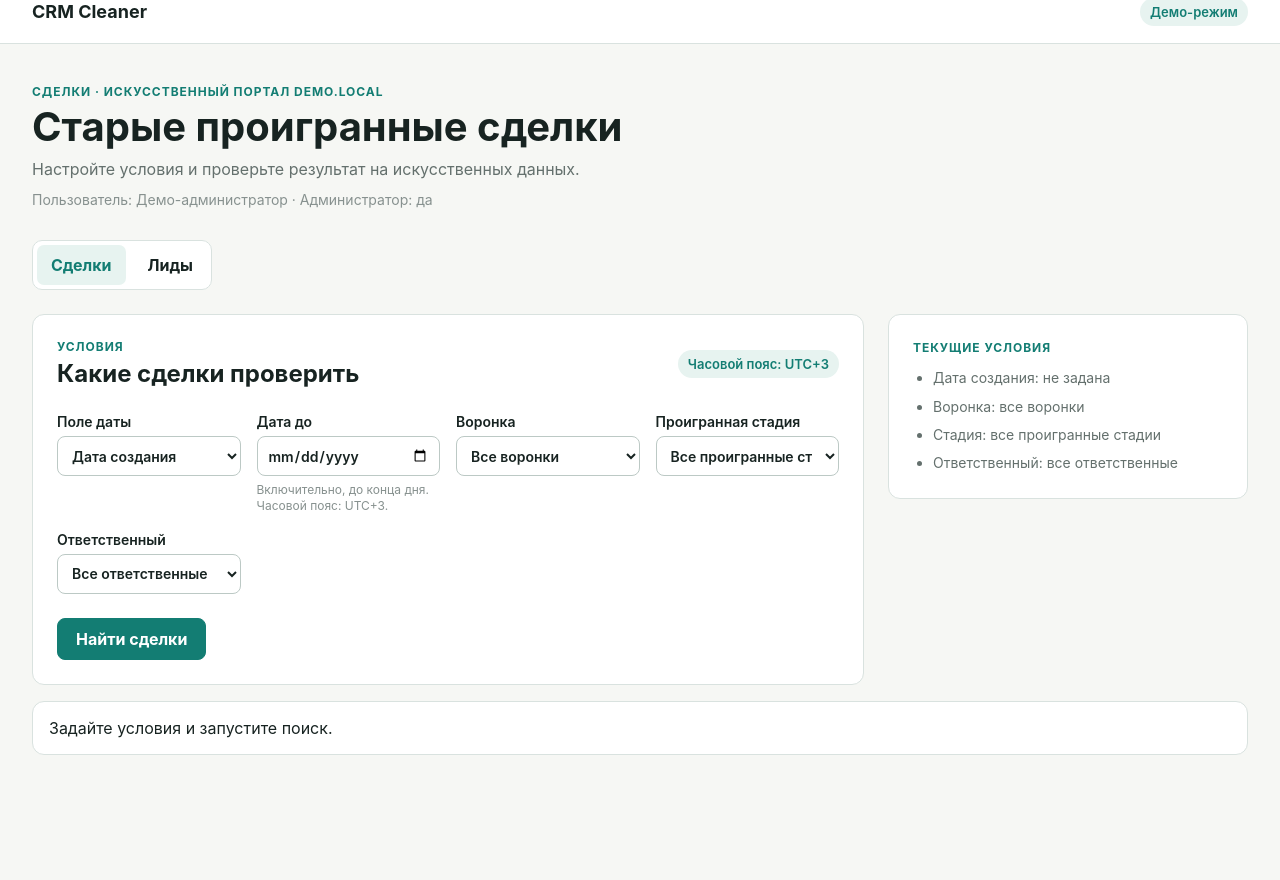
App › resets preview pagination for a new search revision
This screenshot has width=1280, height=880.
Type "2026-01-31" into the date field labelled "Дата до" at (348, 456), box [256,436,440,476]
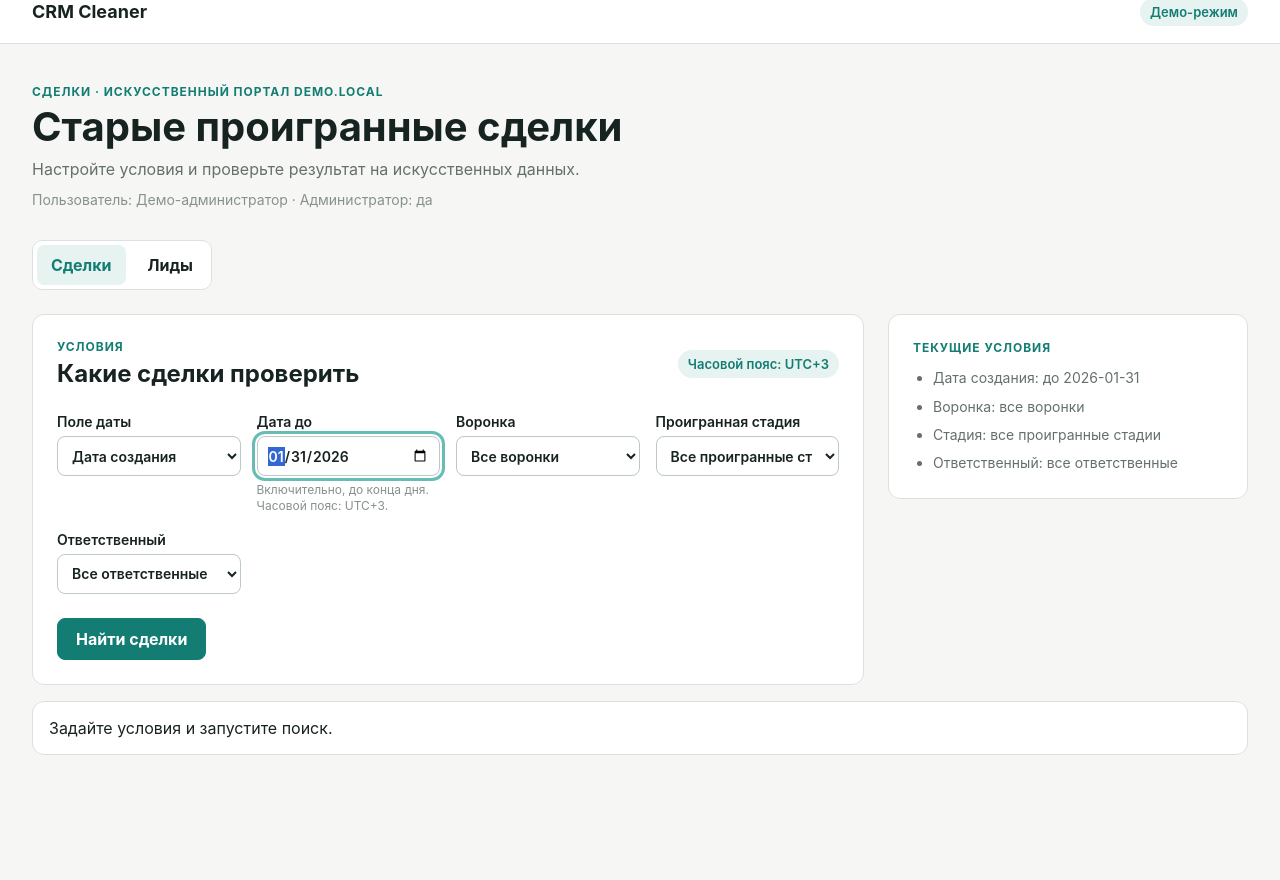
Click the button "Найти сделки" at (132, 639), box [57,618,206,660]
(page scrolled)
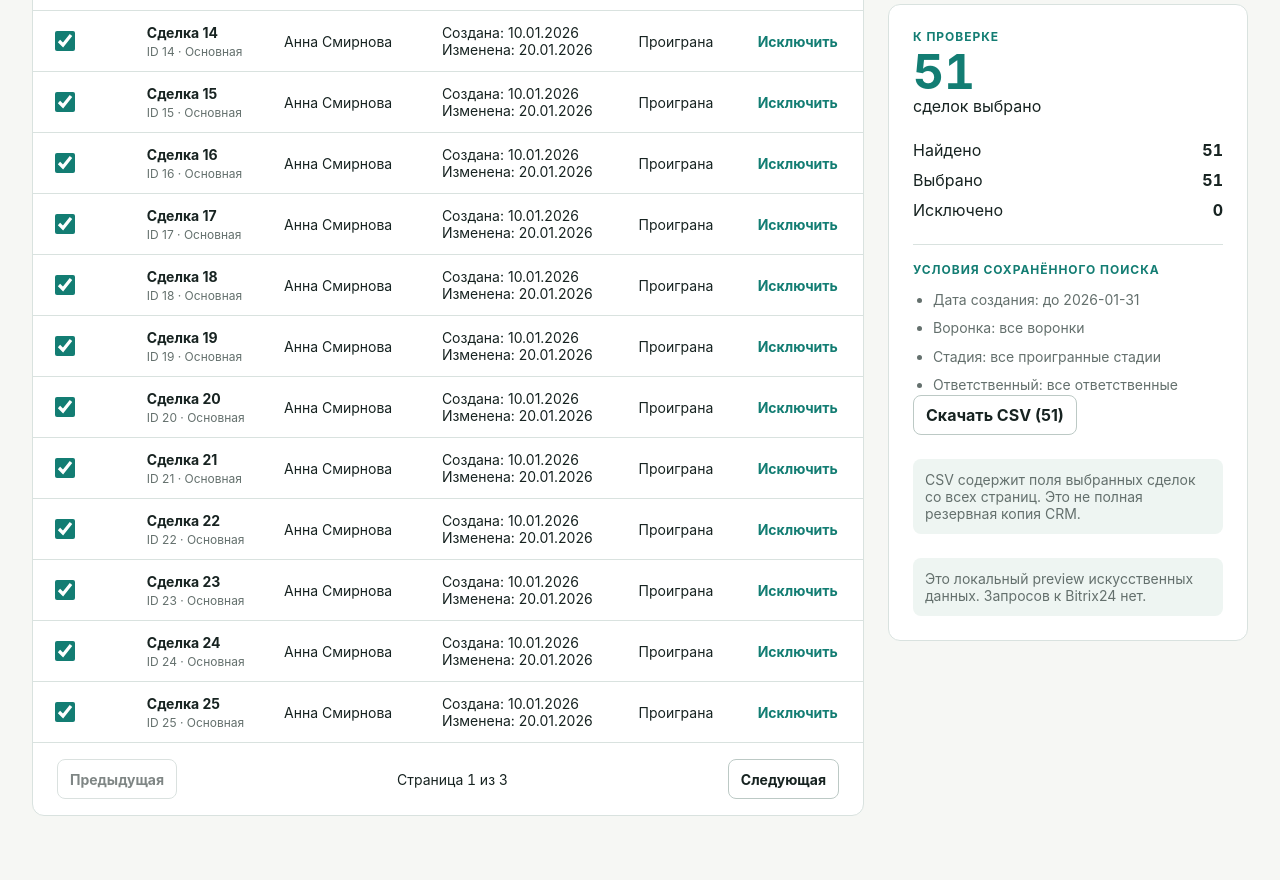
Click the button with aria-label "Следующая страница" at (783, 779), box [728,759,839,799]
(page scrolled)
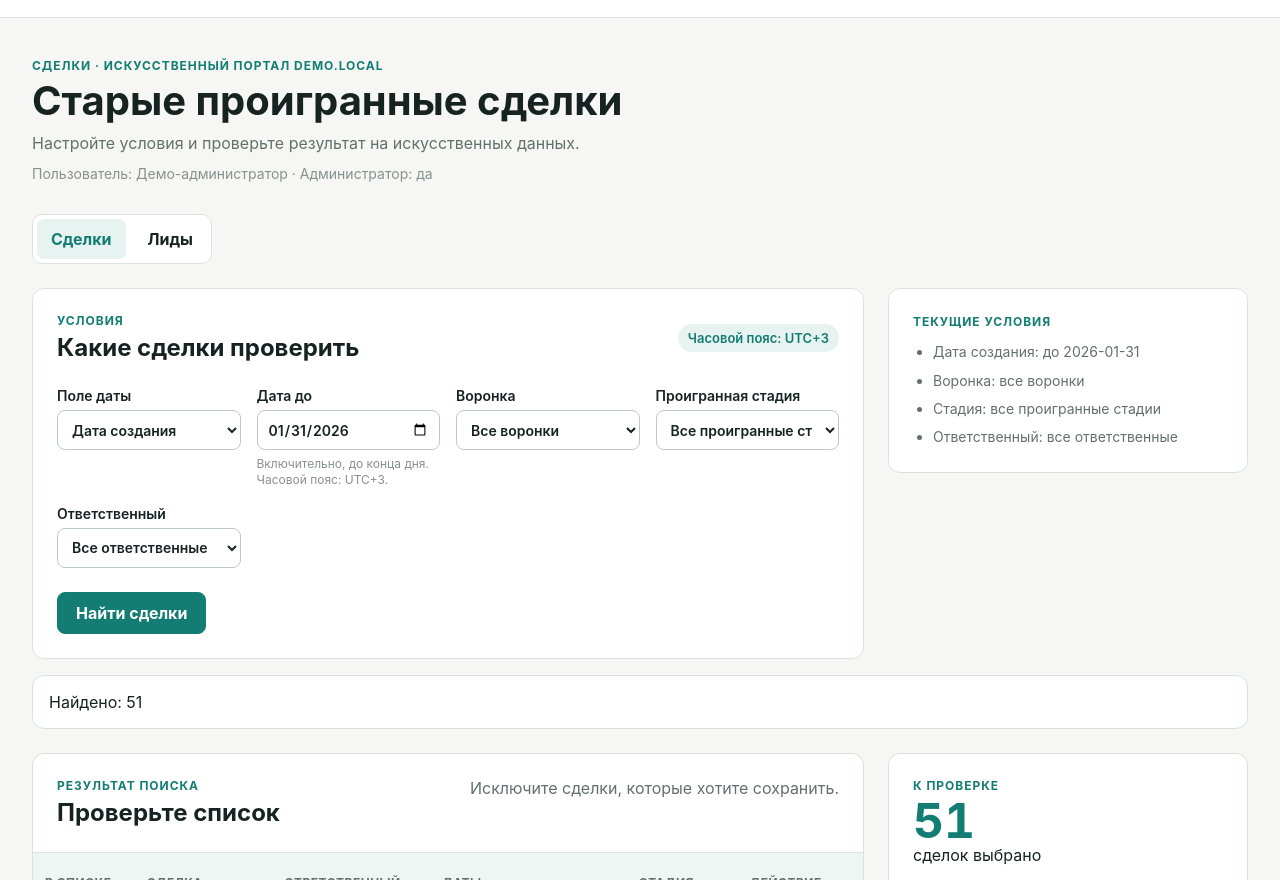
Type "2026-02-28" into the date field labelled "Дата до" at (348, 430), box [256,410,440,450]
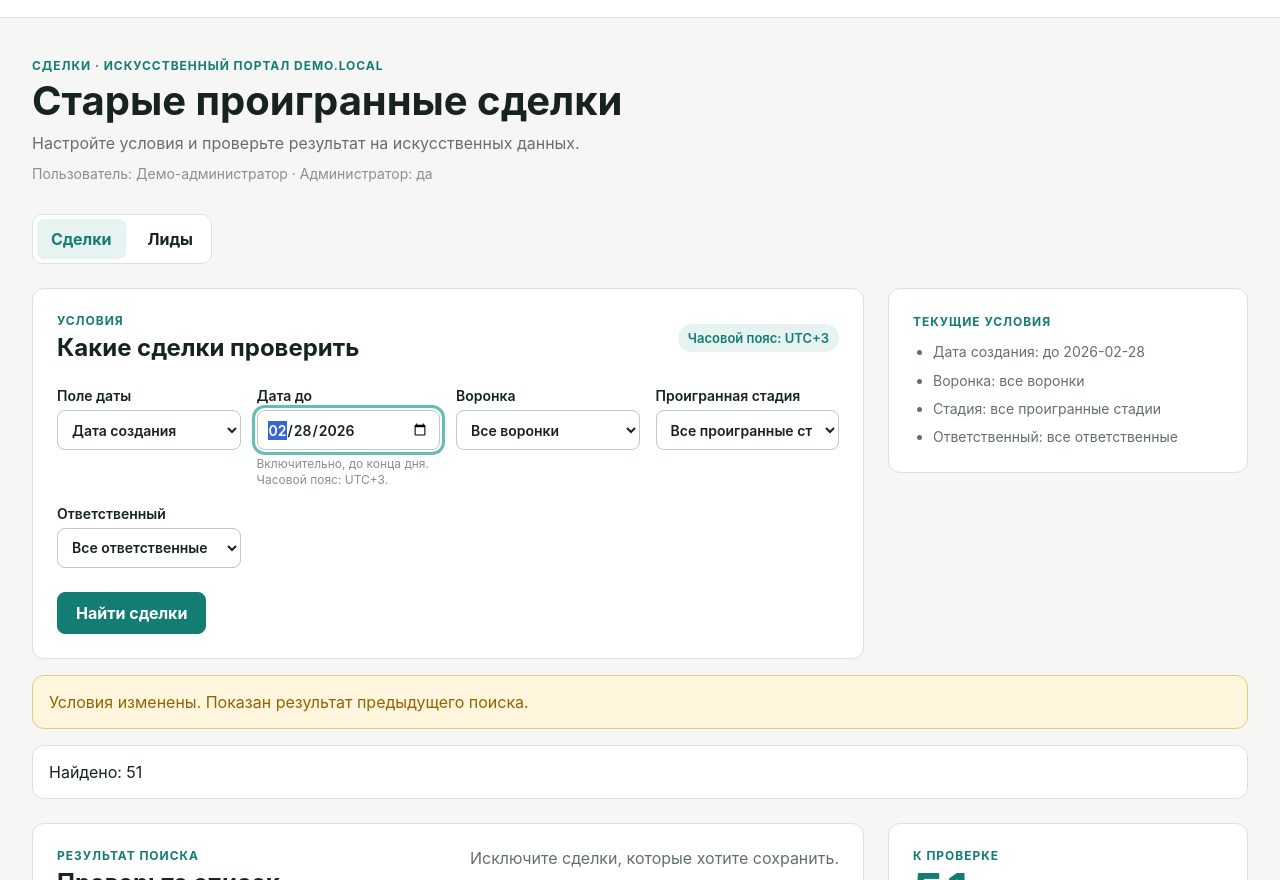
Click the button "Найти сделки" at (132, 613), box [57,592,206,634]
(page scrolled)
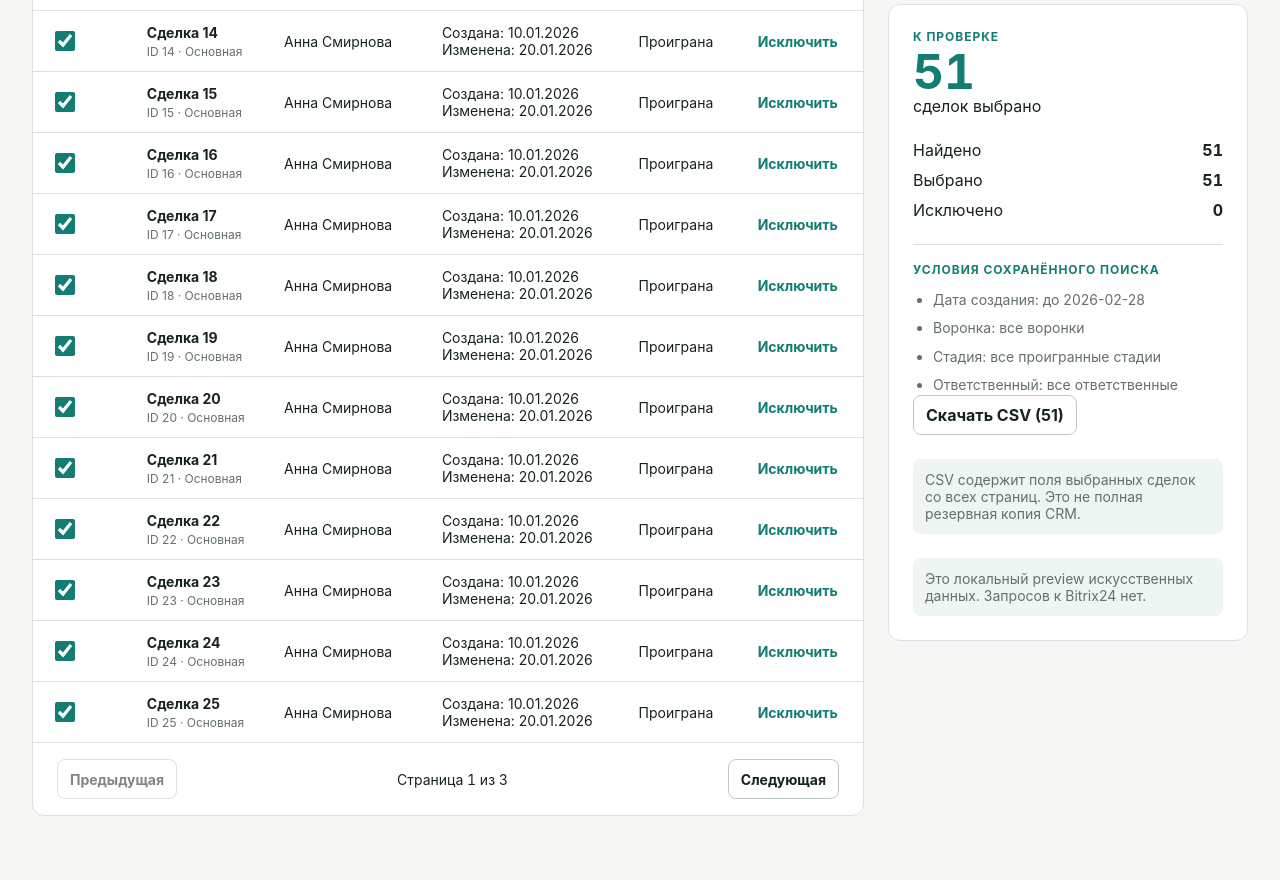
Expected: the text "Страница 1 из 3" is shown, [397,771,508,788]
